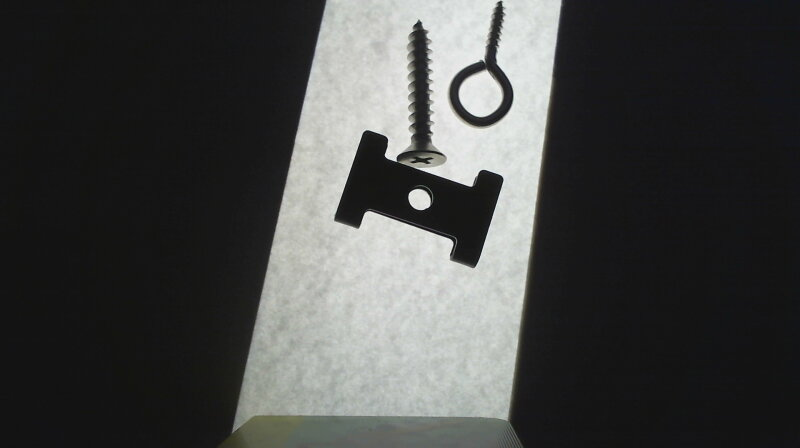O001: (445, 1, 518, 127)
O002: (332, 129, 506, 272)
S001: (392, 18, 448, 170)
